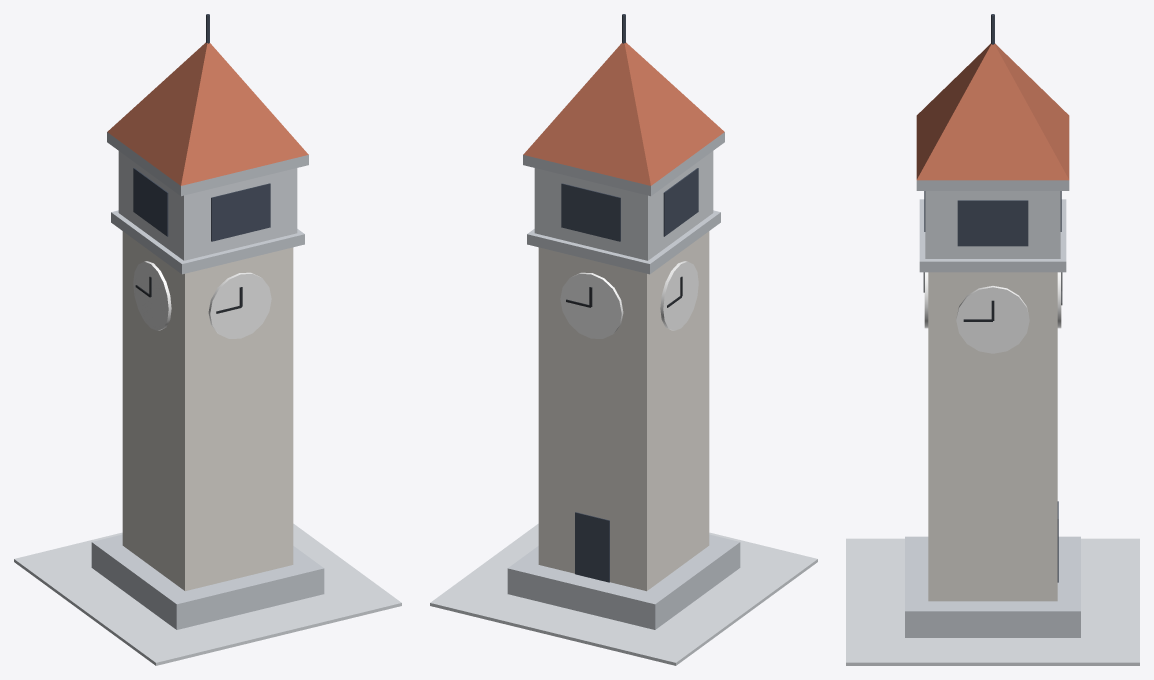
Rendered from clock_tower.glb.
3 views of the same model, side by side, from view 1: azimuth 30°, elevation 25°; view 2: azimuth 150°, elevation 25°; view 3: azimuth 270°, elevation 25° (orthographic). The views are drawn at different scales.
Visible parts, largest first — view 1: Body; view 2: Body; view 3: Body.
Part boxes in pixels (x1,y1,x2,y2): Body: [14, 14, 401, 665]; Body: [430, 14, 817, 665]; Body: [846, 14, 1139, 665].
Bounding box in the file's own units: 10 × 22.12 × 10.
